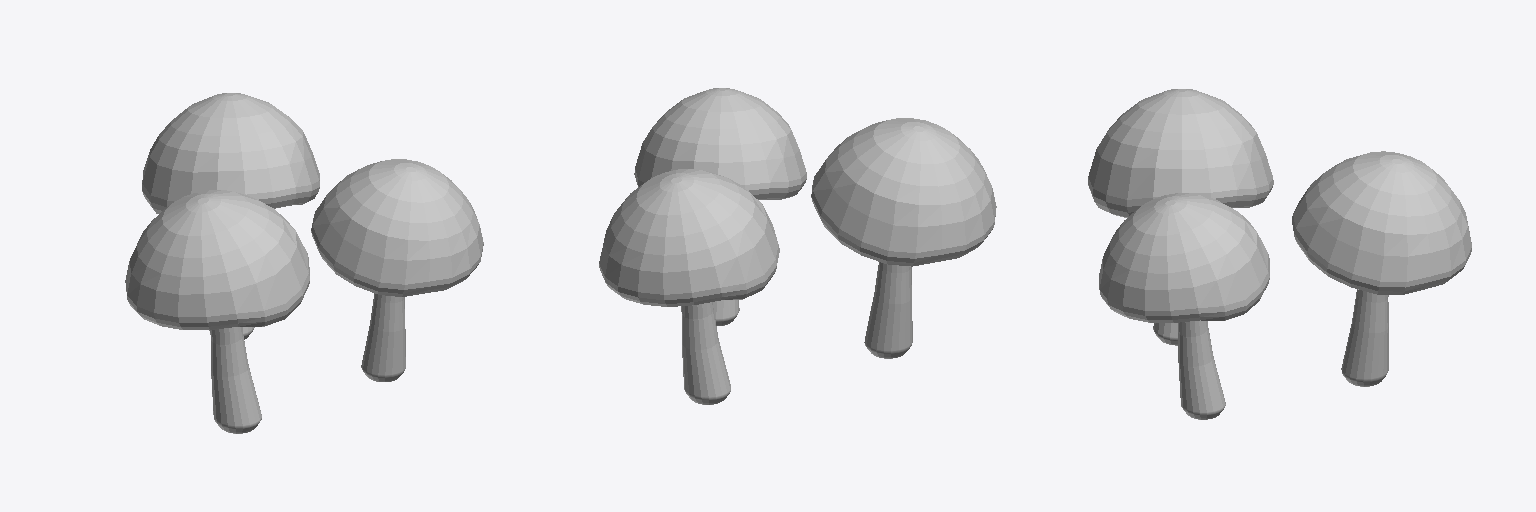
The model's file is uploads_files_3881271_mashroom 1.obj.
3 renders of one model, left to right at view 1: azimuth 30°, elevation 25°; view 2: azimuth 150°, elevation 25°; view 3: azimuth 270°, elevation 25°, orthographic.
Visible parts, largest first — view 1: mashroom_2.001_Cylinder.003, mashroom_2_Cylinder.004, mashroom_2.002_Cylinder.008; view 2: mashroom_2.001_Cylinder.003, mashroom_2.002_Cylinder.008, mashroom_2_Cylinder.004; view 3: mashroom_2.002_Cylinder.008, mashroom_2_Cylinder.004, mashroom_2.001_Cylinder.003.
Part boxes in pixels (x1,y1,x2,y2): mashroom_2.001_Cylinder.003: (125, 190, 309, 433); mashroom_2_Cylinder.004: (311, 159, 483, 381); mashroom_2.002_Cylinder.008: (142, 93, 319, 339); mashroom_2.001_Cylinder.003: (811, 118, 996, 358); mashroom_2.002_Cylinder.008: (599, 169, 779, 404); mashroom_2_Cylinder.004: (634, 88, 806, 325); mashroom_2.002_Cylinder.008: (1292, 151, 1471, 386); mashroom_2_Cylinder.004: (1099, 193, 1269, 419); mashroom_2.001_Cylinder.003: (1088, 89, 1273, 345).
Size of the model in its own units: 14.35 by 9.55 by 14.24.